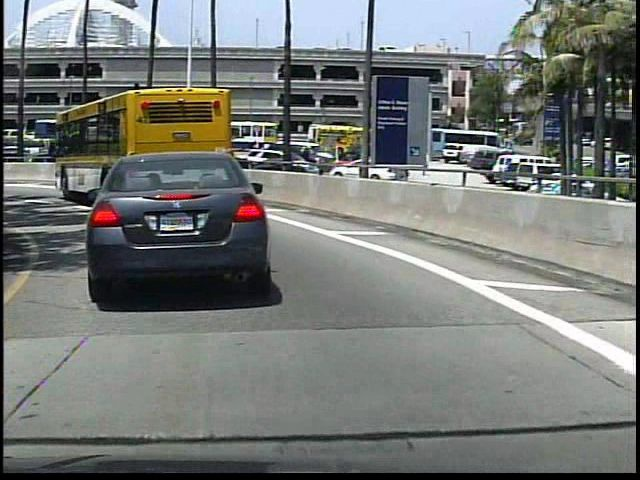person: (299, 145, 313, 175)
